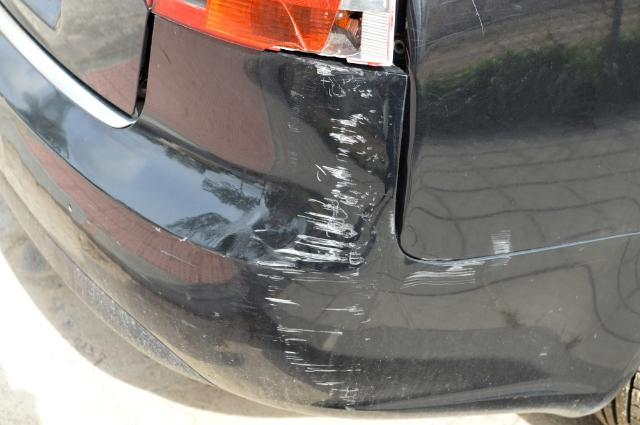lamp broken: (153, 0, 396, 69)
scratch: (254, 63, 514, 410), (490, 227, 516, 257)
